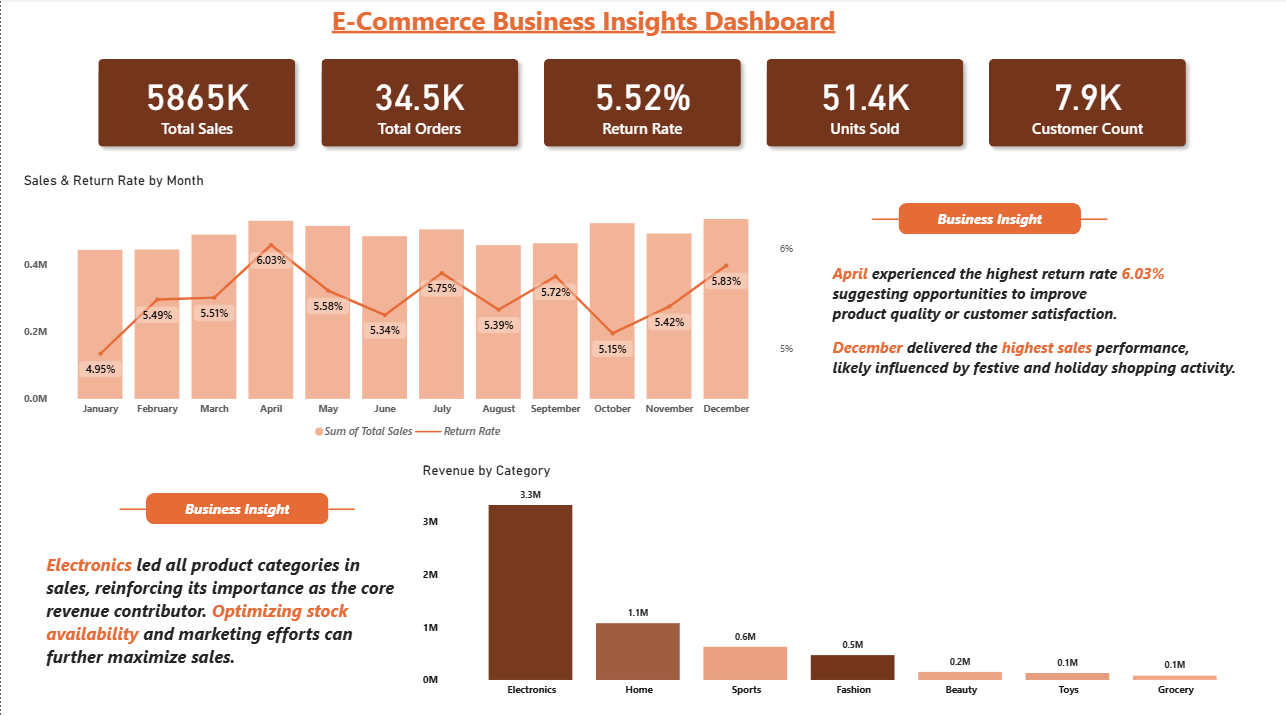

Layout of this report page (visuals, bound fields, positions):
{"tool":"powerbi","page":{"name":"Executive Overview","canvas":[1600,900],"ordinal":0},"visuals":[{"type":"textbox","box":[9.6,0,1270.7,148.2],"z":0},{"type":"cardVisual","fields":{"Data":["Sum(Ecommerce Data.total_amount)","Ecommerce Data.Orders Count","Ecommerce Data.Return Rate","Sum(Ecommerce Data.quantity)","Ecommerce Data.Customer Count"]},"box":[104.2,59.1,1390.1,143.1],"z":1000},{"type":"lineStackedColumnComboChart","title":"Sales & Return Rate by Month","fields":{"Category":["Ecommerce Data.order_date.Variation.Date Hierarchy.Month"],"Y":["Sum(Ecommerce Data.total_amount)"],"Y2":["Ecommerce Data.Return Rate"]},"box":[23.3,216.1,968.7,342.1],"z":2000},{"type":"textbox","box":[1029.4,325,544.2,233.2],"z":3000},{"type":"shape","box":[1116.5,255,227,38.9],"z":4000},{"type":"shape","box":[1083.8,216.1,32.7,118.2],"z":5000},{"type":"shape","box":[1343.5,216.1,32.7,118.2],"z":6000},{"type":"lineStackedColumnComboChart","title":"Revenue by Category","fields":{"Category":["Ecommerce Data.category"],"Y":["Sum(Ecommerce Data.Total Sales)"]},"box":[519.4,576.9,1054.3,301.7],"z":7000},{"type":"textbox","box":[51.3,684.2,457.2,175.7],"z":8000},{"type":"shape","box":[180.4,615.8,227,38.9],"z":9000},{"type":"shape","box":[407.4,576.9,32.7,118.2],"z":10000},{"type":"shape","box":[147.7,576.9,32.7,118.2],"z":12000}]}

Visuals, with their boxes in screenshot pixels (x1, y1, x2, y2), scaled from the page's 1600x900 canvas onto the 1286x716 screenshot:
textbox: detection(8, 0, 1029, 118)
cardVisual - Sum(Ecommerce Data.total_amount) x Ecommerce Data.Orders Count: detection(84, 47, 1201, 161)
"Sales & Return Rate by Month" lineStackedColumnComboChart: detection(19, 172, 797, 444)
textbox: detection(827, 259, 1265, 444)
shape: detection(897, 203, 1080, 234)
shape: detection(871, 172, 897, 266)
shape: detection(1080, 172, 1106, 266)
"Revenue by Category" lineStackedColumnComboChart: detection(417, 459, 1265, 699)
textbox: detection(41, 544, 409, 684)
shape: detection(145, 490, 327, 521)
shape: detection(327, 459, 354, 553)
shape: detection(119, 459, 145, 553)
